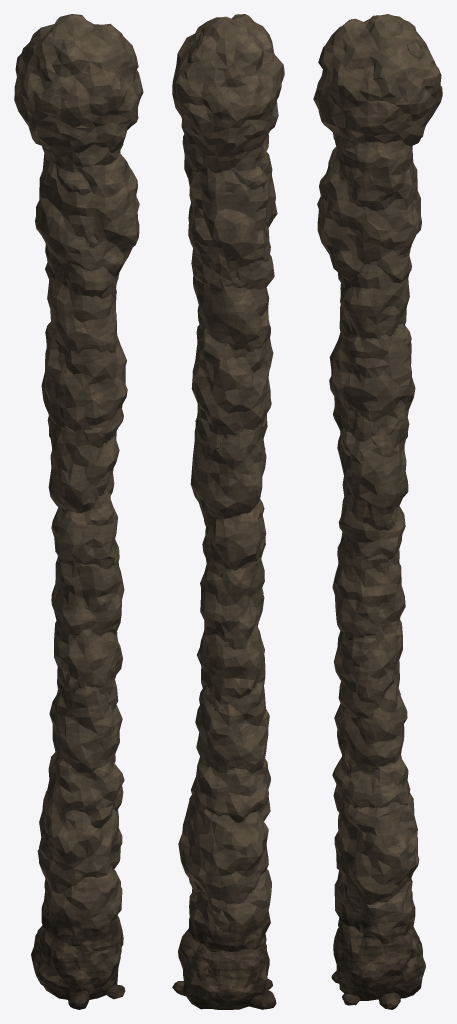
Rendered from mine_pillar_a.glb.
The picture shows the model from 3 angles, left to right: view 1: azimuth 90°, elevation 25°; view 2: azimuth 150°, elevation 25°; view 3: azimuth 270°, elevation 25°; orthographic projection.
Visible parts, largest first — view 1: mine_pillar_a.002; view 2: mine_pillar_a.002; view 3: mine_pillar_a.002.
Boxes of the visible parts, bbox=[...] form: mine_pillar_a.002: bbox=[14, 14, 143, 1009]; mine_pillar_a.002: bbox=[172, 14, 284, 1009]; mine_pillar_a.002: bbox=[313, 14, 442, 1009].
Size of the model in its own units: 2.67 by 26.24 by 3.16.
Materials: 1 (1 with a texture image).
